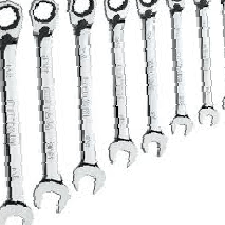Wrench: (2, 2, 139, 225), (139, 1, 220, 146)
